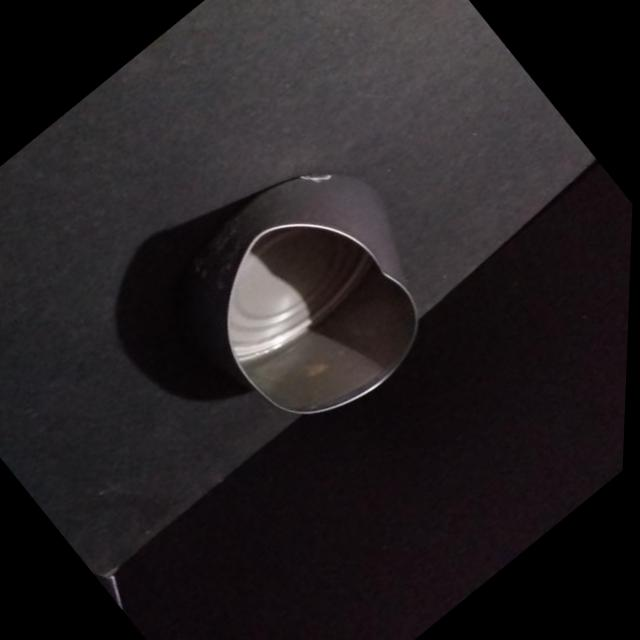metal: (152, 131, 480, 450)
